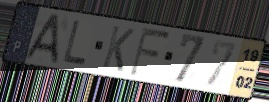7: (175, 32, 207, 86), (205, 38, 238, 88)
A: (22, 13, 62, 65)
F: (127, 26, 173, 79)
K: (100, 24, 136, 74)
L: (62, 19, 88, 67)
